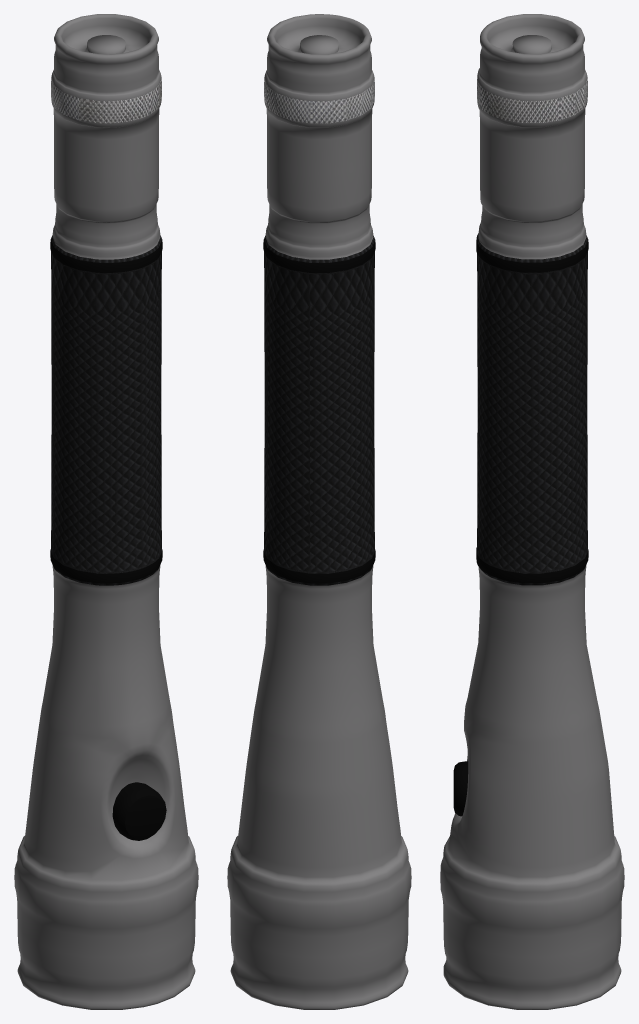
File: Flashlight.FBX
3 views of the same model, side by side, from view 1: azimuth 30°, elevation 25°; view 2: azimuth 150°, elevation 25°; view 3: azimuth 270°, elevation 25° (orthographic).
Parts seen in each view (by area): view 1: Flashlight, Button; view 2: Flashlight; view 3: Flashlight, Button.
Part boxes in pixels (x1=…): Flashlight: x1=14, y1=14, x2=198, y2=1009; Button: x1=112, y1=782, x2=166, y2=840; Flashlight: x1=227, y1=14, x2=411, y2=1009; Flashlight: x1=440, y1=14, x2=624, y2=1009; Button: x1=453, y1=761, x2=468, y2=816.
Bounding box in the file's own units: 148 × 848 × 151.
